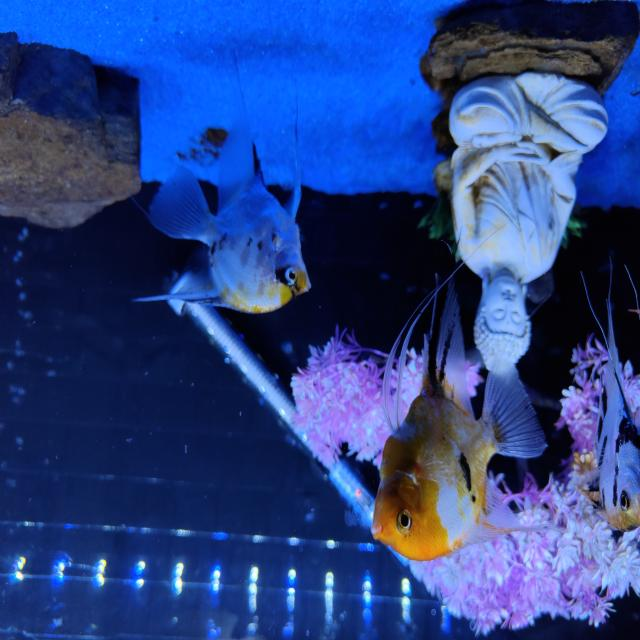Fish: (372, 279, 546, 559), (136, 52, 310, 312), (579, 295, 639, 530)
